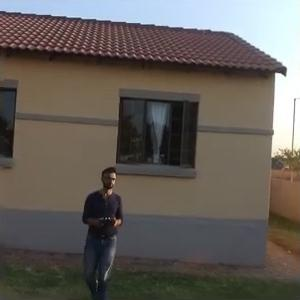follow: (80, 166, 134, 299)
